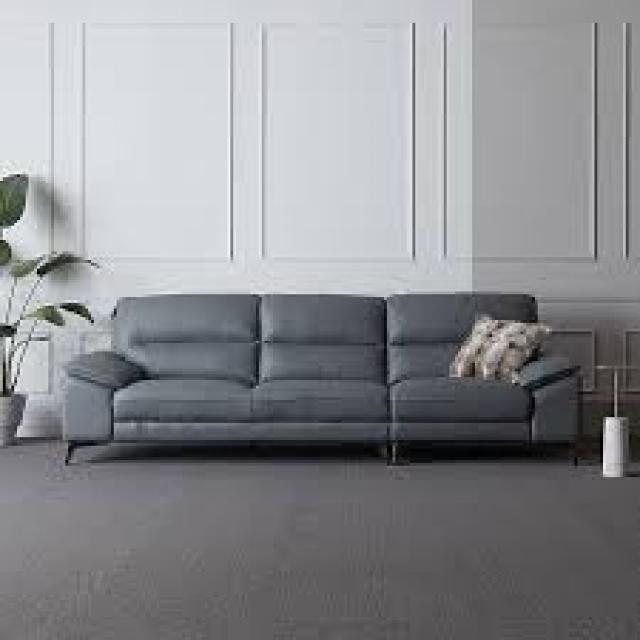Sofa: (46, 268, 604, 508)
